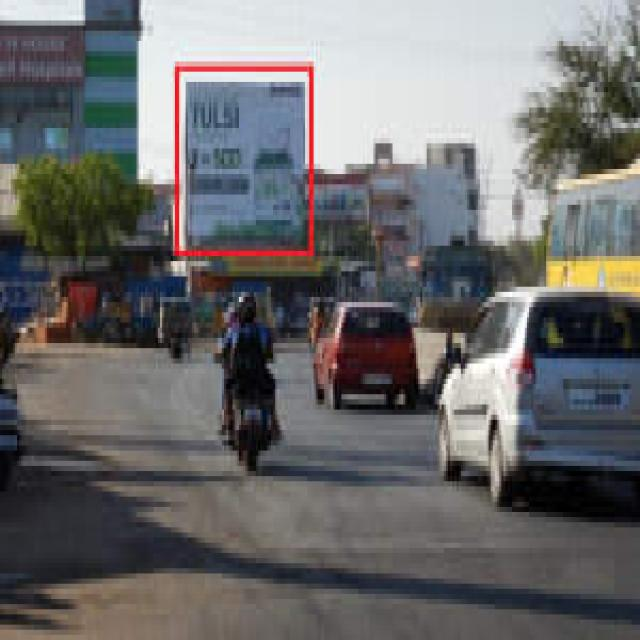Werbetafel frei: (186, 82, 306, 250)
